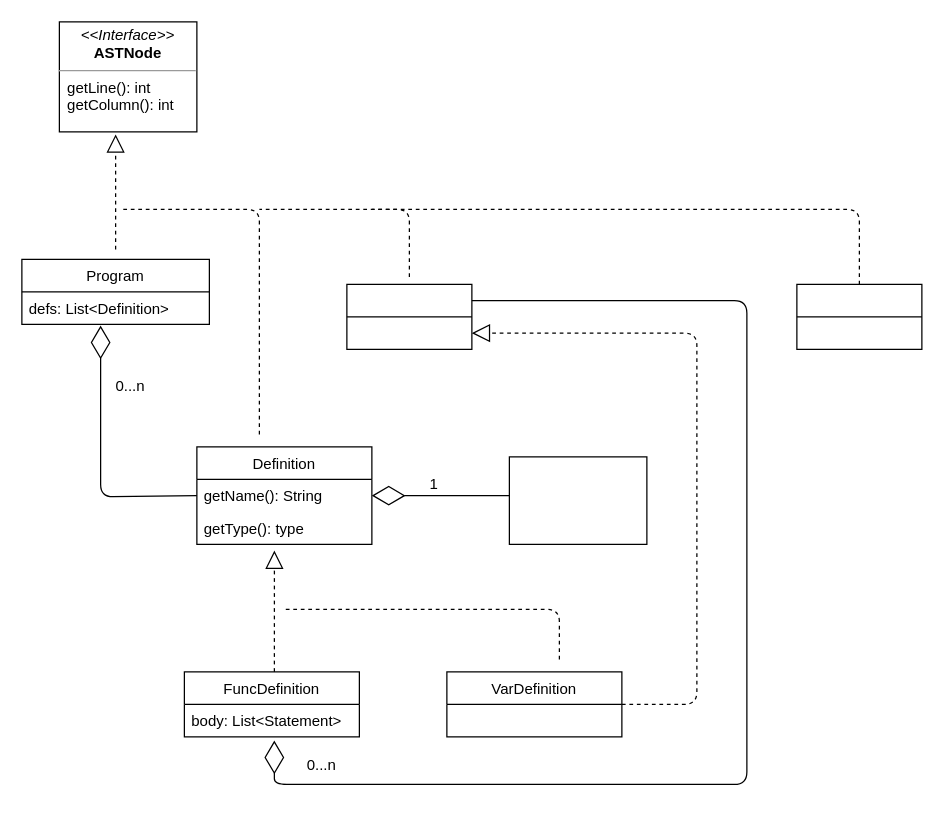
The diagram is 944 pixels wide and 839 high, and some of its shapes have lost their labels. Here are the shapes that lost their labels. From the top down, the centre of each, then its label:
At (409,316): "Statement".
At (859,316): "Expression".
At (577,500): "<<Interface>> Type getName(): String".
